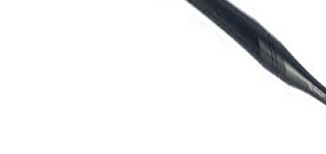Wrench: (161, 1, 326, 120)
